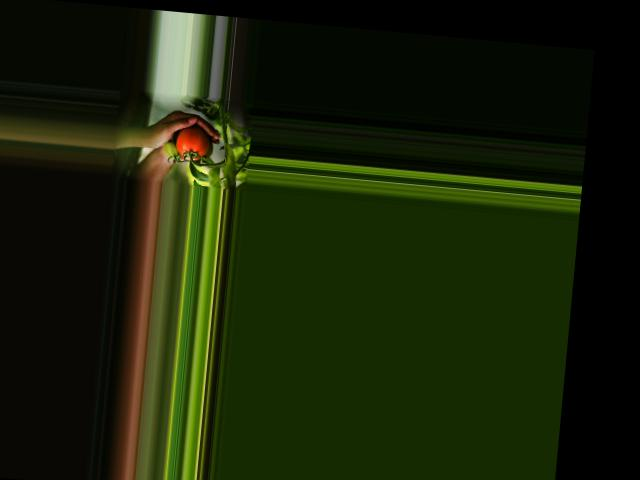tomato: (174, 124, 209, 161)
